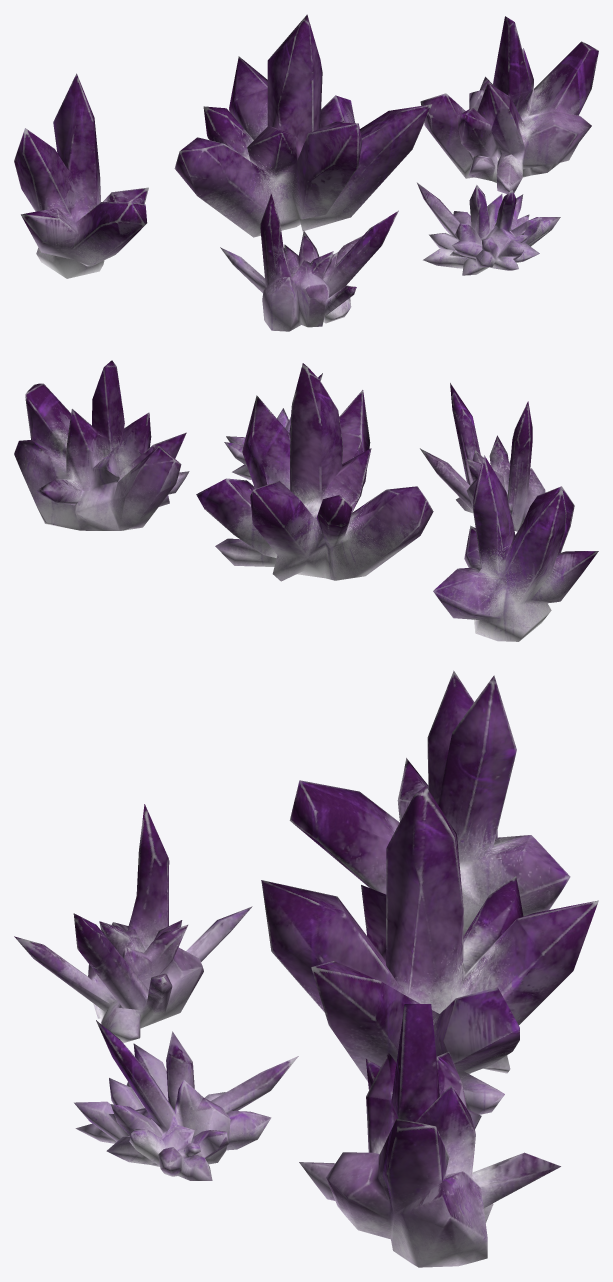
The picture shows the model from 3 angles, top to bottom: view 1: azimuth 30°, elevation 25°; view 2: azimuth 150°, elevation 25°; view 3: azimuth 270°, elevation 25°; orthographic projection. The views are drawn at different scales.
Parts seen in each view (by area): view 1: Cluster2.Shape, Cluster3.Shape, Cluster1.Shape, Cluster4.Shape, Cluster5.Shape; view 2: Cluster2.Shape, Cluster3.Shape, Cluster1.Shape, Cluster4.Shape, Cluster5.Shape; view 3: Cluster2.Shape, Cluster3.Shape, Cluster1.Shape, Cluster4.Shape, Cluster5.Shape.
Part boxes in pixels (bbox=[...]): Cluster2.Shape: bbox=[174, 14, 431, 237]; Cluster3.Shape: bbox=[420, 16, 598, 193]; Cluster1.Shape: bbox=[14, 73, 148, 278]; Cluster4.Shape: bbox=[220, 194, 398, 331]; Cluster5.Shape: bbox=[417, 182, 560, 275]; Cluster2.Shape: bbox=[196, 363, 433, 581]; Cluster3.Shape: bbox=[14, 360, 189, 530]; Cluster1.Shape: bbox=[433, 455, 598, 641]; Cluster4.Shape: bbox=[420, 383, 545, 531]; Cluster5.Shape: bbox=[224, 373, 322, 479]; Cluster2.Shape: bbox=[261, 786, 598, 1114]; Cluster3.Shape: bbox=[299, 1004, 560, 1267]; Cluster1.Shape: bbox=[289, 670, 570, 935]; Cluster4.Shape: bbox=[14, 804, 252, 1042]; Cluster5.Shape: bbox=[74, 1020, 298, 1180].
Size of the model in its own units: 0.4821 by 0.1649 by 0.2893.
Materials: 5 (5 with a texture image).
